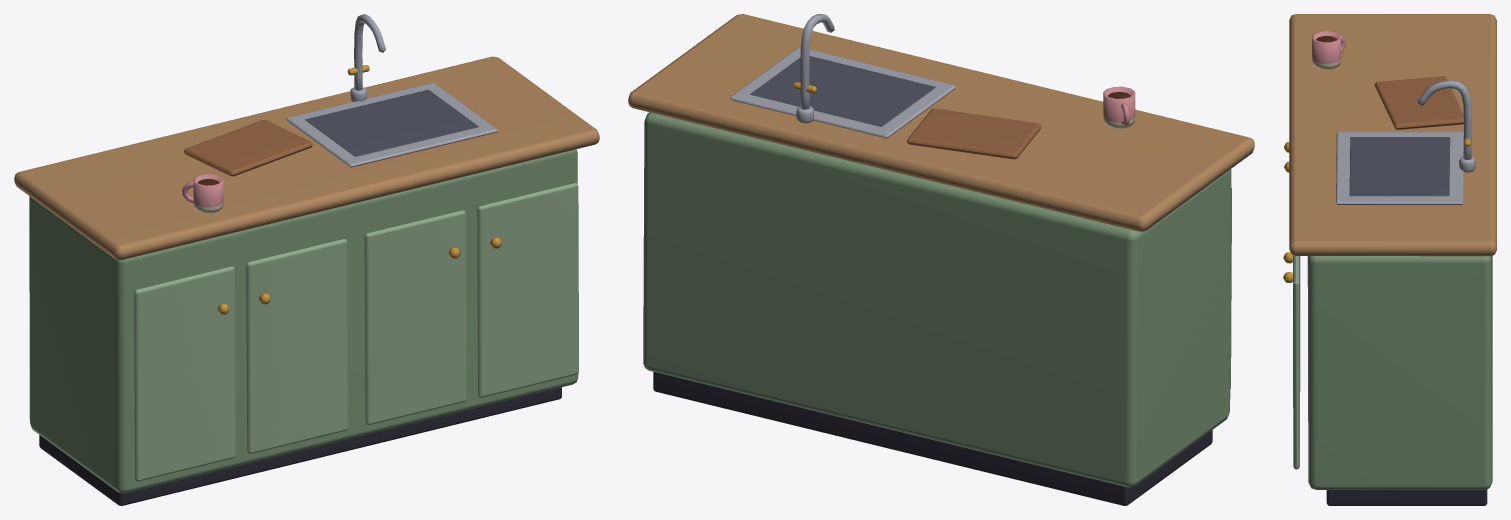
The model's file is kitchen_counter.glb.
3 views of the same model, side by side, from view 1: azimuth 30°, elevation 25°; view 2: azimuth 150°, elevation 25°; view 3: azimuth 270°, elevation 25° (orthographic). The views are drawn at different scales.
Parts seen in each view (by area): view 1: kitchen_counter, tap, mug; view 2: kitchen_counter, tap, mug; view 3: kitchen_counter, tap, mug.
Boxes of the visible parts, <box> form: kitchen_counter: <box>14,56,599,505</box>; tap: <box>347,14,385,101</box>; mug: <box>182,174,223,213</box>; kitchen_counter: <box>628,14,1254,505</box>; tap: <box>793,14,834,123</box>; mug: <box>1103,86,1135,128</box>; kitchen_counter: <box>1283,14,1496,505</box>; tap: <box>1417,80,1475,172</box>; mug: <box>1312,31,1345,69</box>.
Size of the model in its own units: 1.64 by 1.19 by 0.6388.
